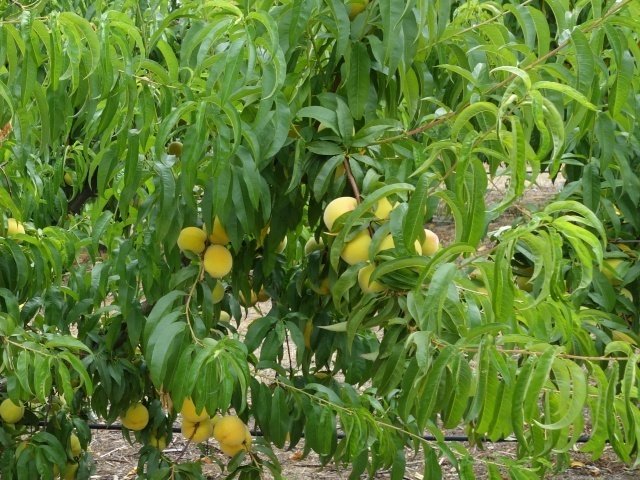peach: (322, 191, 365, 231), (336, 229, 381, 267), (203, 242, 239, 281), (354, 258, 390, 295), (179, 412, 217, 447), (214, 413, 250, 449), (174, 223, 210, 258), (178, 392, 215, 426), (202, 214, 237, 249), (410, 222, 446, 256), (121, 401, 152, 434), (1, 396, 28, 424), (163, 137, 186, 162)
